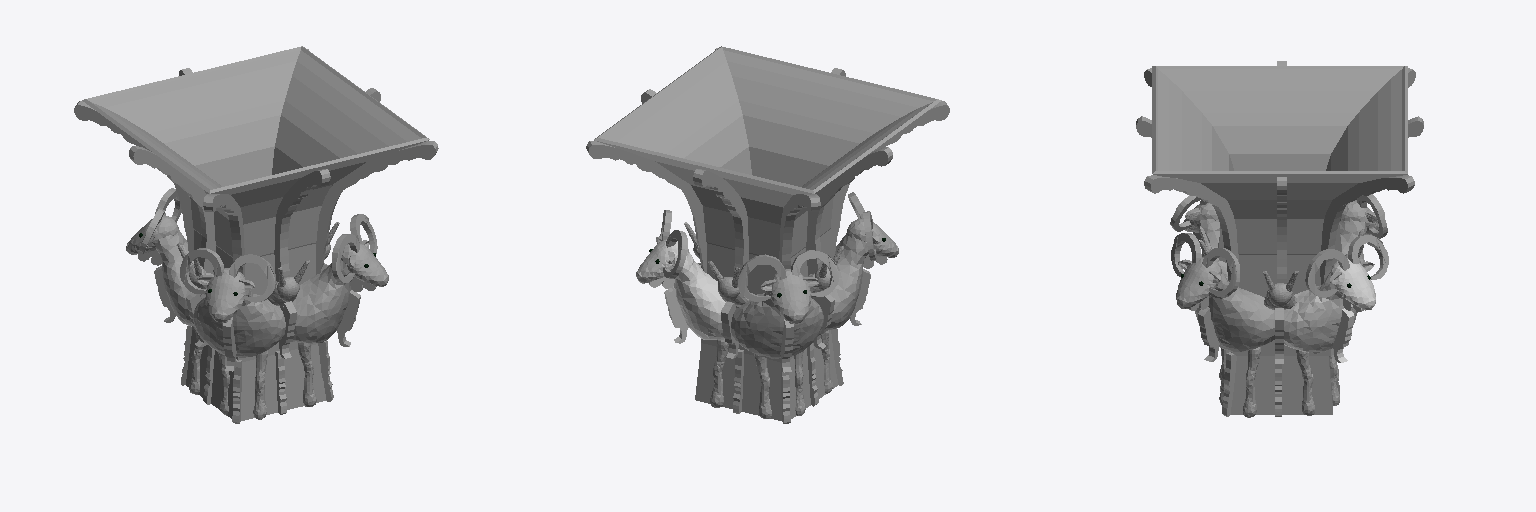
File: sheep_vase3.obj
The picture shows the model from 3 angles: view 1: azimuth 30°, elevation 25°; view 2: azimuth 150°, elevation 25°; view 3: azimuth 270°, elevation 25°; orthographic projection.
Visible parts, largest first — view 1: vase_body_Plane, sheep_body.003_model_[number redacted].003, sheep_body.001_model_[number redacted].006, sheep_body.000_model_[number redacted].007, arches_top.001_model_[number redacted].010, arches_top.005_model_[number redacted].013, arches_top.006_model_[number redacted].014, arches_top.000_model_[number redacted].011, arches_top.004_model_[number redacted].005, horn.006_model_[number redacted].007, horn.007_model_[number redacted].008, leg.007_model_[number redacted].008 (+5 smaller); view 2: vase_body_Plane, sheep_body.000_model_[number redacted].007, sheep_body.004_model_[number redacted].004, sheep_body.003_model_[number redacted].003, arches_top.008_model_[number redacted].002, arches_top.005_model_[number redacted].013, arches_top.003_model_[number redacted].012, arches_top.004_model_[number redacted].005, arches_top.000_model_[number redacted].011, horn.000_model_[number redacted].014, horn.001_model_[number redacted].015, leg.008_model_[number redacted].001 (+4 smaller); view 3: vase_body_Plane, sheep_body.001_model_[number redacted].006, sheep_body.004_model_[number redacted].004, arches_top.008_model_[number redacted].002, arches_top.001_model_[number redacted].010, sheep_body.000_model_[number redacted].007, arches_top.002_model_[number redacted].009, sheep_body.003_model_[number redacted].003, horn.008_model_[number redacted].001, horn.011_model_[number redacted].013, horn.009_model_[number redacted].009, leg.003_model_[number redacted].013 (+5 smaller).
Boxes of the visible parts, x1,y1,x2,y2 form: vase_body_Plane: [82, 46, 429, 420]; sheep_body.003_model_[number redacted].003: [193, 268, 285, 371]; sheep_body.001_model_[number redacted].006: [292, 244, 388, 346]; sheep_body.000_model_[number redacted].007: [126, 215, 193, 325]; arches_top.001_model_[number redacted].010: [316, 141, 438, 274]; arches_top.005_model_[number redacted].013: [129, 146, 215, 298]; arches_top.006_model_[number redacted].014: [274, 169, 330, 310]; arches_top.000_model_[number redacted].011: [74, 101, 193, 252]; arches_top.004_model_[number redacted].005: [203, 194, 244, 276]; horn.006_model_[number redacted].007: [180, 248, 223, 293]; horn.007_model_[number redacted].008: [229, 254, 276, 302]; leg.007_model_[number redacted].008: [253, 350, 267, 419]; vase_body_Plane: [594, 46, 941, 420]; sheep_body.000_model_[number redacted].007: [731, 269, 823, 372]; sheep_body.004_model_[number redacted].004: [636, 239, 725, 343]; sheep_body.003_model_[number redacted].003: [828, 218, 898, 329]; arches_top.008_model_[number redacted].002: [586, 141, 706, 272]; arches_top.005_model_[number redacted].013: [806, 147, 892, 302]; arches_top.003_model_[number redacted].012: [693, 169, 748, 307]; arches_top.004_model_[number redacted].005: [830, 101, 949, 257]; arches_top.000_model_[number redacted].011: [779, 194, 820, 268]; horn.000_model_[number redacted].014: [738, 254, 786, 301]; horn.001_model_[number redacted].015: [791, 250, 838, 296]; leg.008_model_[number redacted].001: [710, 339, 728, 407]; vase_body_Plane: [1152, 66, 1407, 414]; sheep_body.001_model_[number redacted].006: [1176, 257, 1274, 361]; sheep_body.004_model_[number redacted].004: [1284, 258, 1375, 362]; arches_top.008_model_[number redacted].002: [1320, 175, 1414, 284]; arches_top.001_model_[number redacted].010: [1144, 175, 1238, 286]; sheep_body.000_model_[number redacted].007: [1339, 201, 1378, 262]; arches_top.002_model_[number redacted].009: [1277, 177, 1286, 283]; sheep_body.003_model_[number redacted].003: [1183, 203, 1219, 256]; horn.008_model_[number redacted].001: [1305, 249, 1349, 297]; horn.011_model_[number redacted].013: [1202, 248, 1239, 296]; horn.009_model_[number redacted].009: [1348, 235, 1388, 279]; leg.003_model_[number redacted].013: [1243, 347, 1260, 417].
Bounding box in the file's own units: 8.96 × 9.5 × 9.01.